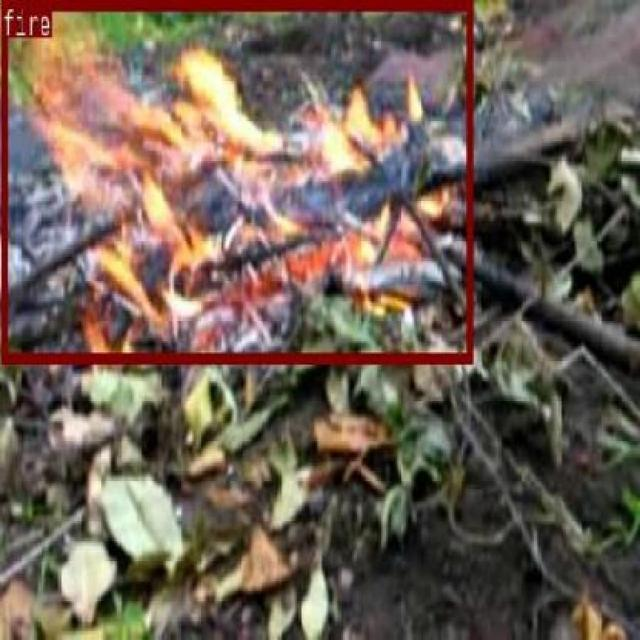Fire: (0, 0, 472, 363)
